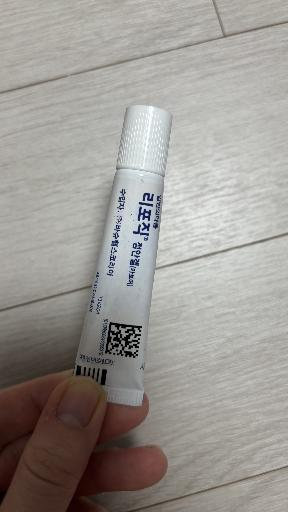liposic: (74, 106, 173, 408)
